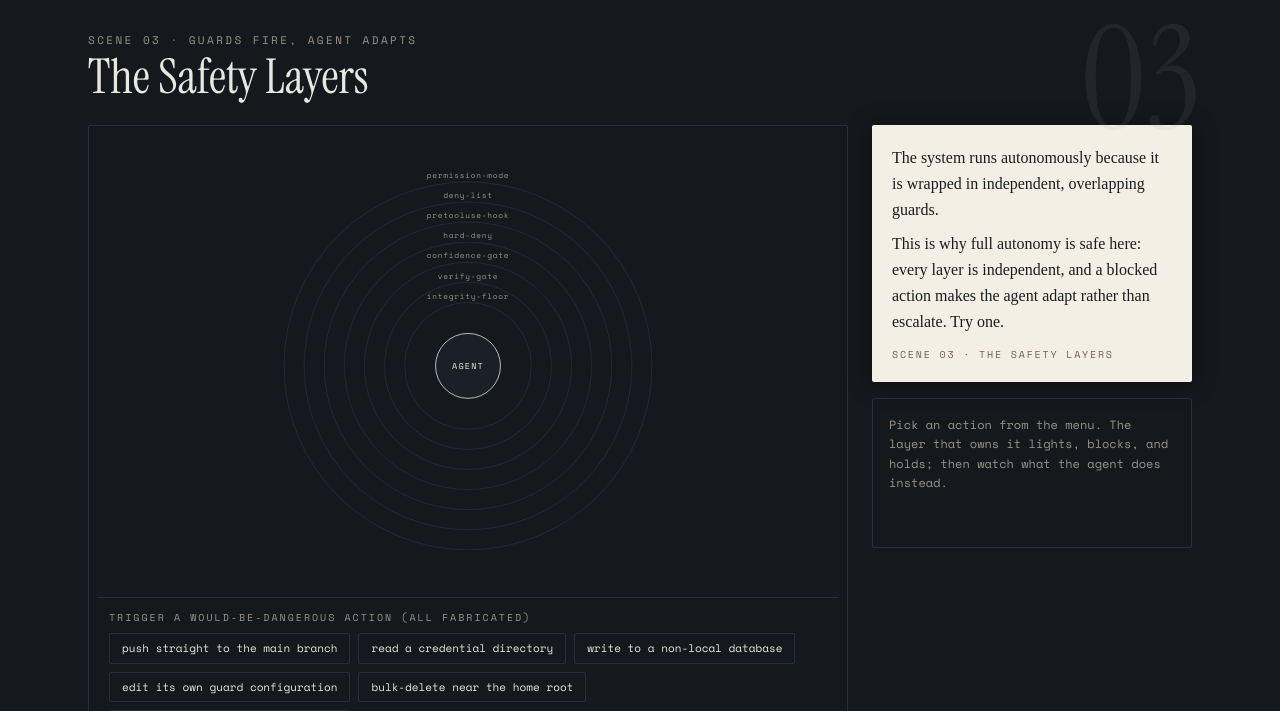
Test case: SafetyScene guard triggers › push-to-main is blocked at its mapped layer and the agent adapts
The image size is (1280, 711).
Click the button "push straight to the main branch".
click(230, 649)  # box left=109, top=633, right=350, bottom=664
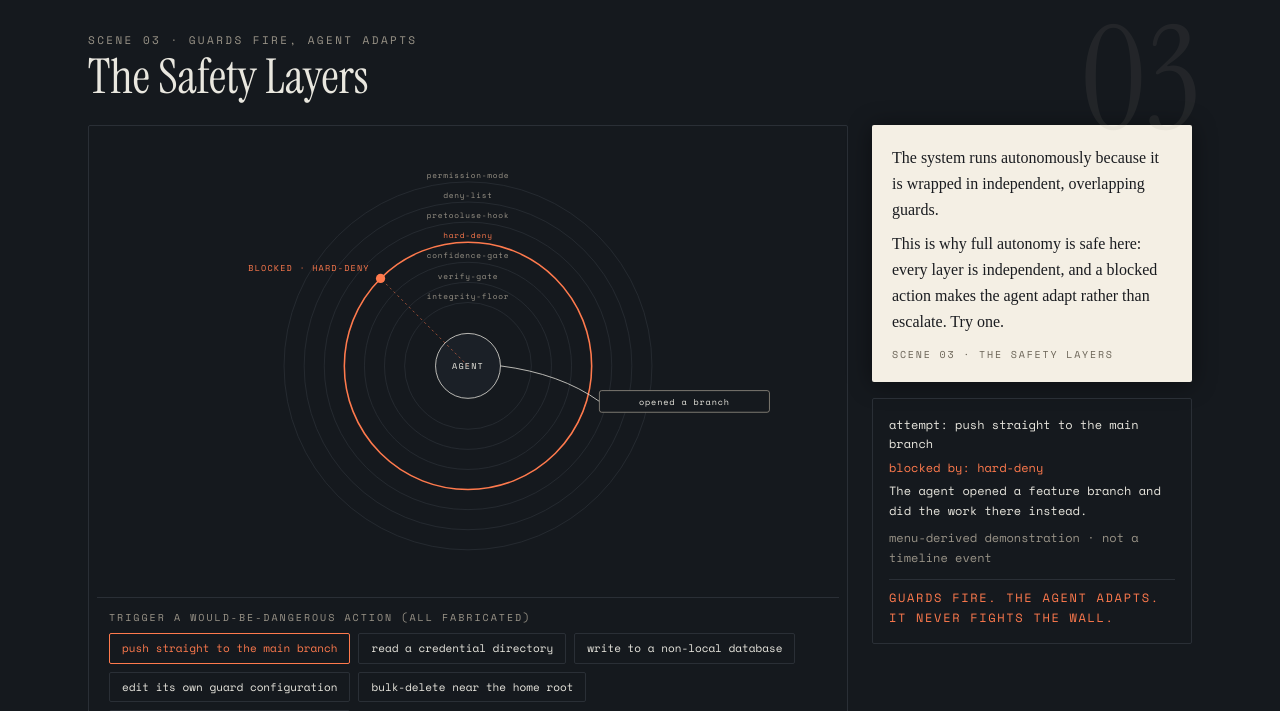
Expected: the element with test id "adaptation" is shown, left=639, top=394, right=730, bottom=407
Expected: the text "Guards fire. The agent adapts. It never fights the wall." is shown, left=889, top=579, right=1175, bottom=627
